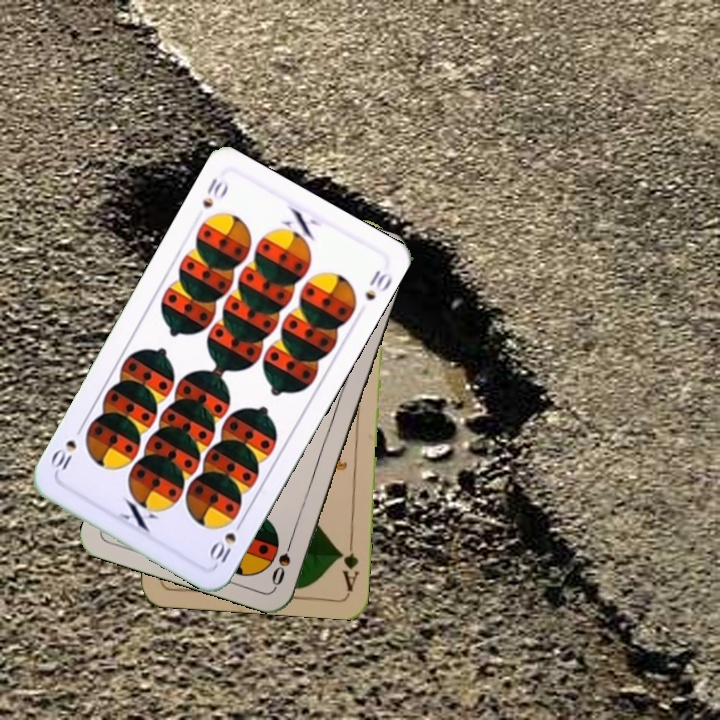GA: (336, 535, 362, 594)
S10: (205, 512, 247, 566), (198, 173, 231, 211)
SO: (267, 531, 297, 589)
